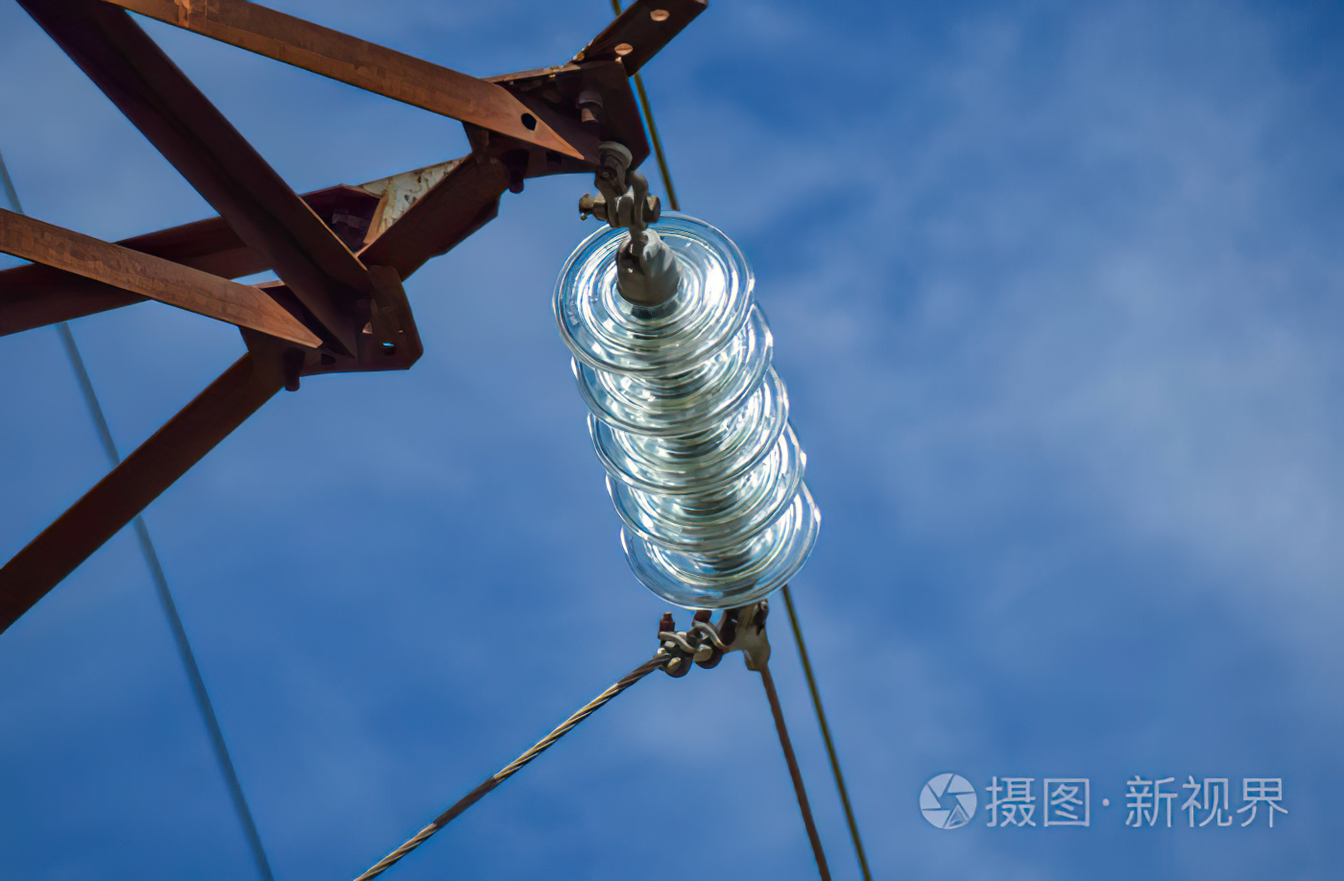insulator: (553, 211, 817, 611)
